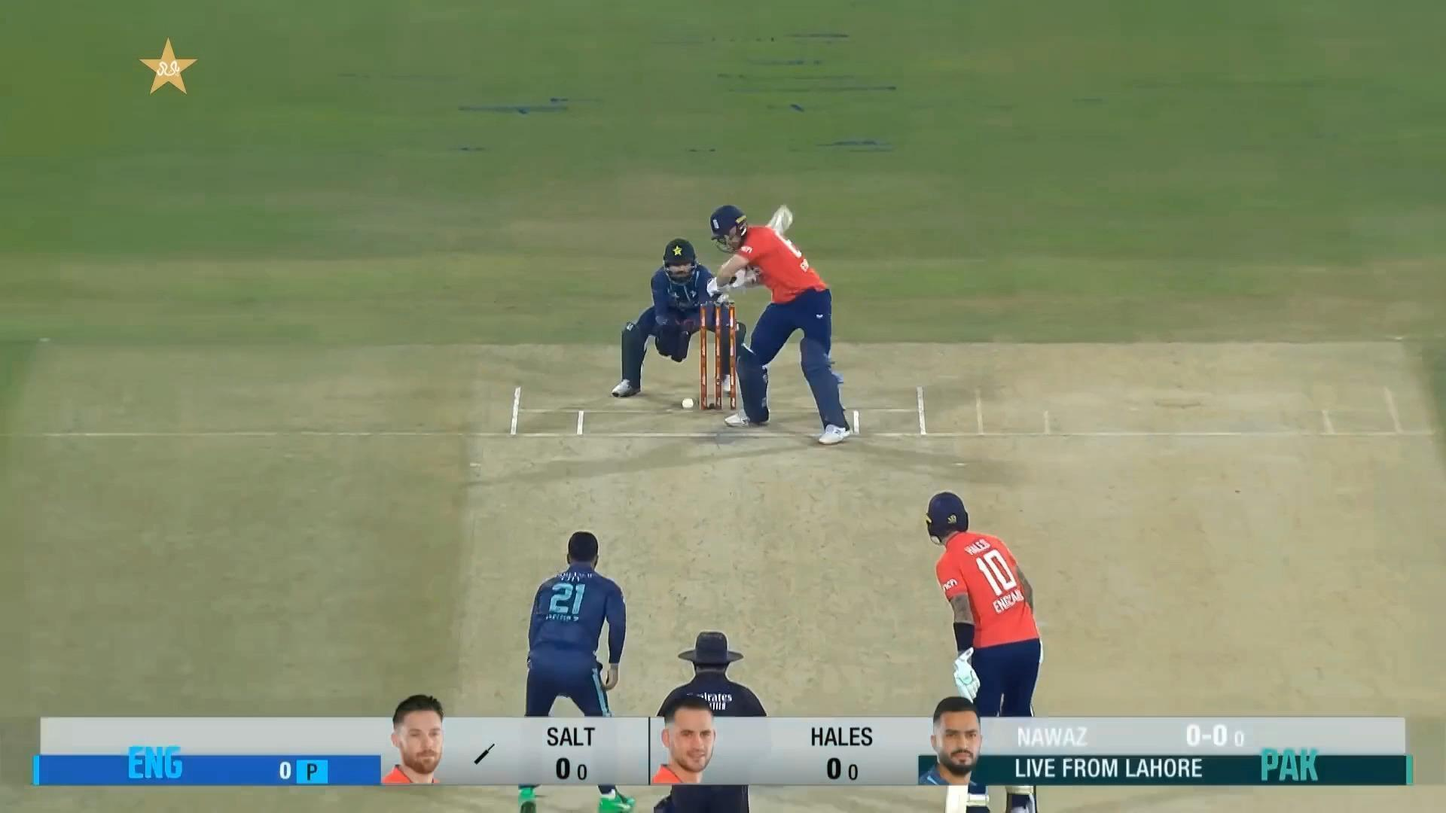BM 1: (707, 205, 851, 445)
BO: (515, 530, 640, 813)
